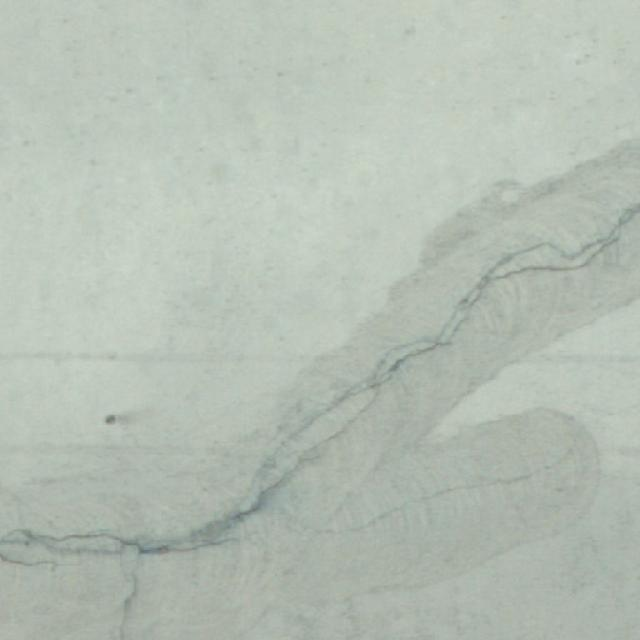Network: (0, 187, 640, 634)
